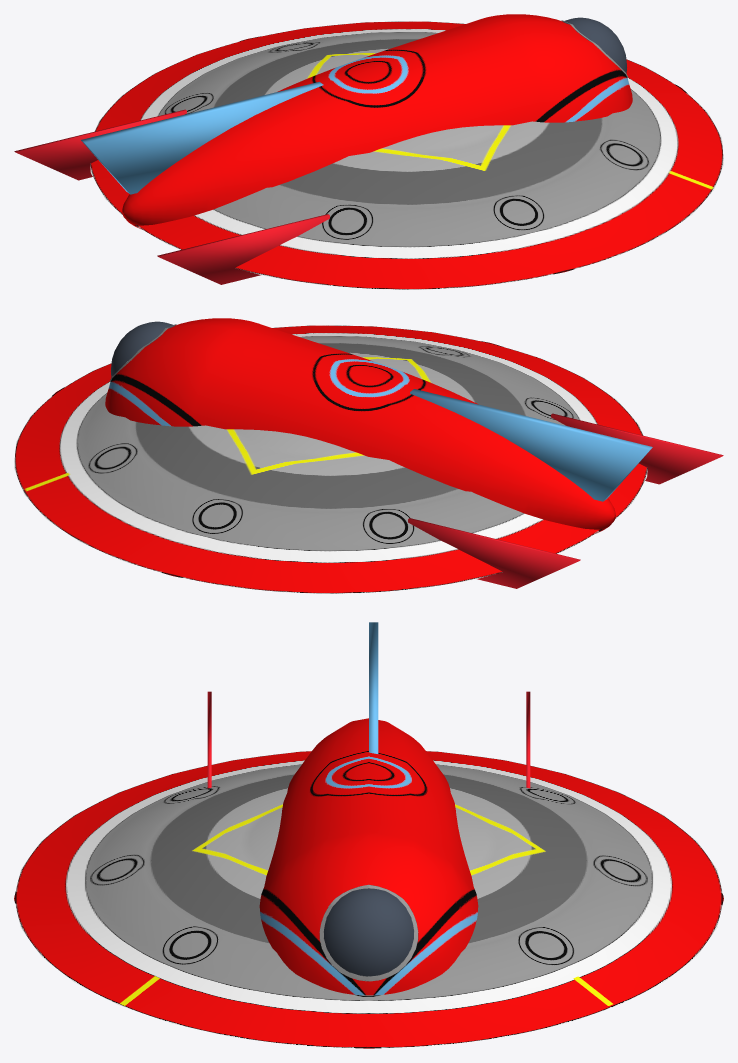
Rendered from FlyingSaucer.gltf.
3 renders of one model, top to bottom at view 1: azimuth 30°, elevation 25°; view 2: azimuth 150°, elevation 25°; view 3: azimuth 270°, elevation 25°, orthographic. The views are drawn at different scales.
Visible parts, largest first — view 1: Circle.001, Curve top, Plane.002, Plane, Plane.001, Window, Circle.004; view 2: Circle.001, Curve top, Plane.002, Plane.001, Plane, Window, Circle.004; view 3: Circle.001, Curve top, Window, Circle.003, Plane.002, Circle.004.
Part boxes in pixels (left/top/right/bottom): Circle.001: left=90, top=21, right=723, bottom=289; Curve top: left=122, top=14, right=632, bottom=229; Plane.002: left=81, top=81, right=323, bottom=194; Plane: left=157, top=214, right=329, bottom=284; Plane.001: left=14, top=109, right=186, bottom=180; Window: left=563, top=17, right=626, bottom=74; Circle.004: left=90, top=21, right=723, bottom=289; Circle.001: left=14, top=325, right=647, bottom=593; Curve top: left=105, top=318, right=615, bottom=533; Plane.002: left=410, top=389, right=652, bottom=501; Plane.001: left=408, top=518, right=580, bottom=588; Plane: left=551, top=413, right=723, bottom=484; Window: left=111, top=321, right=174, bottom=378; Circle.004: left=14, top=325, right=647, bottom=593; Circle.001: left=14, top=751, right=723, bottom=1048; Curve top: left=259, top=718, right=478, bottom=995; Window: left=324, top=888, right=413, bottom=976; Circle.003: left=319, top=884, right=418, bottom=981; Plane.002: left=369, top=622, right=378, bottom=753; Circle.004: left=14, top=751, right=723, bottom=1048.
Size of the model in its own units: 5.95 by 1.57 by 5.5.
Materials: 9 (3 with a texture image).
